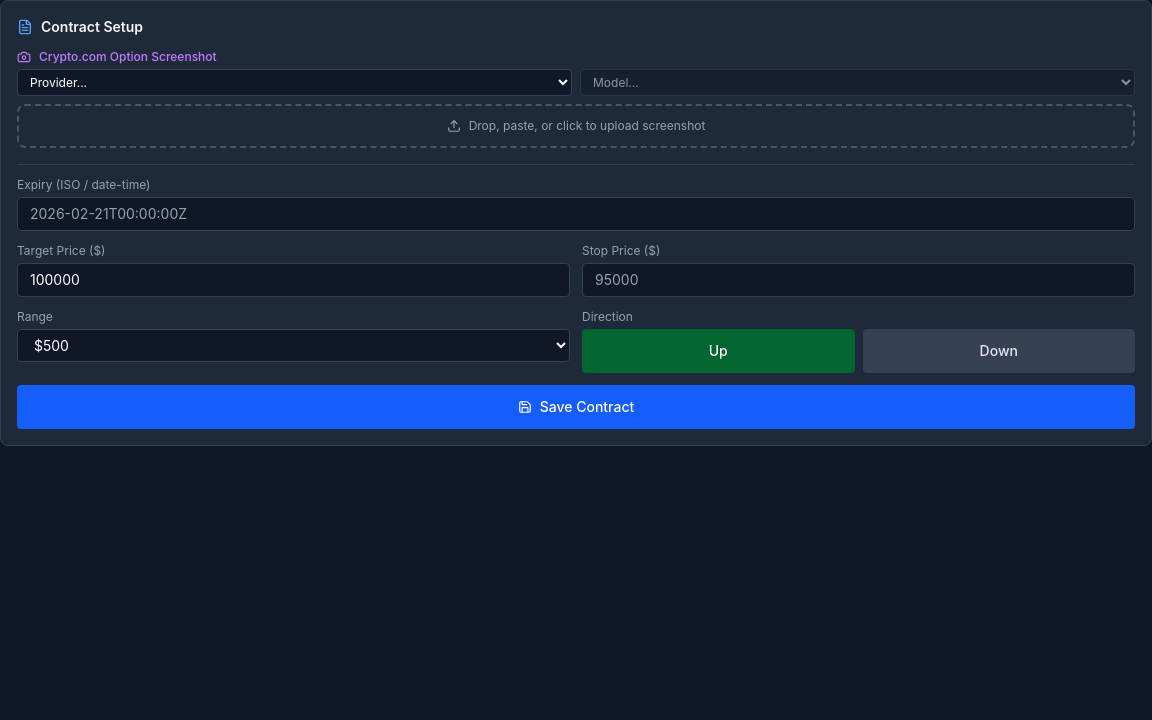
Scenario: ContractSetup draft revision and server readback transitions › serializes Save and screenshot Apply through a synchronous write guard, and preserves retry payload on failure
Start Save
Type "110000" into the number field labelled "Target Price ($)" at (294, 280), box [17, 263, 570, 297]
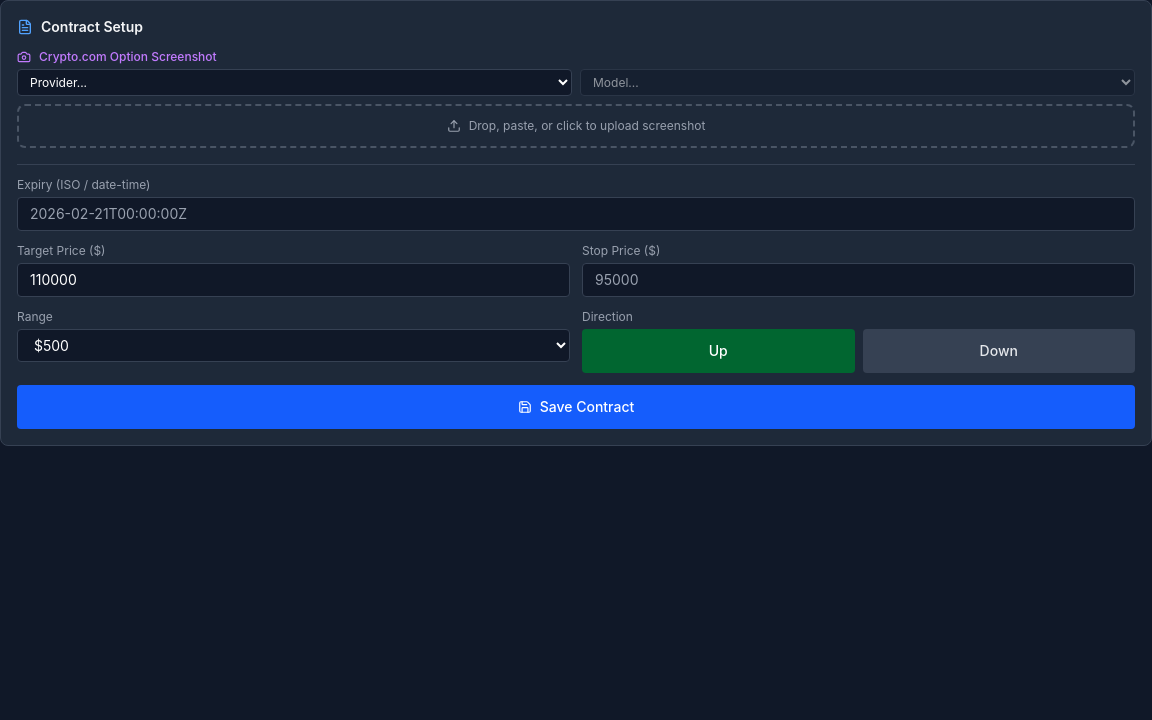
Click the button "Save Contract" at (576, 407), box [17, 385, 1135, 429]
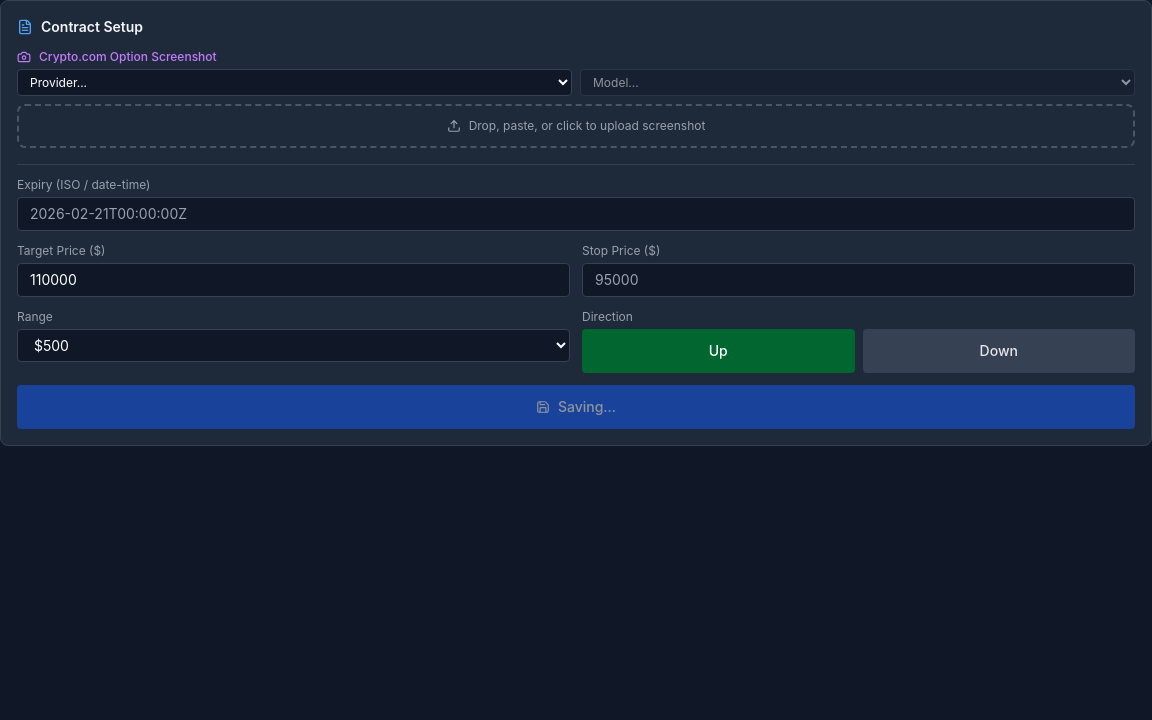
Expected: the button "Saving..." is shown
Click the button "Saving..." at (576, 407), box [17, 385, 1135, 429]
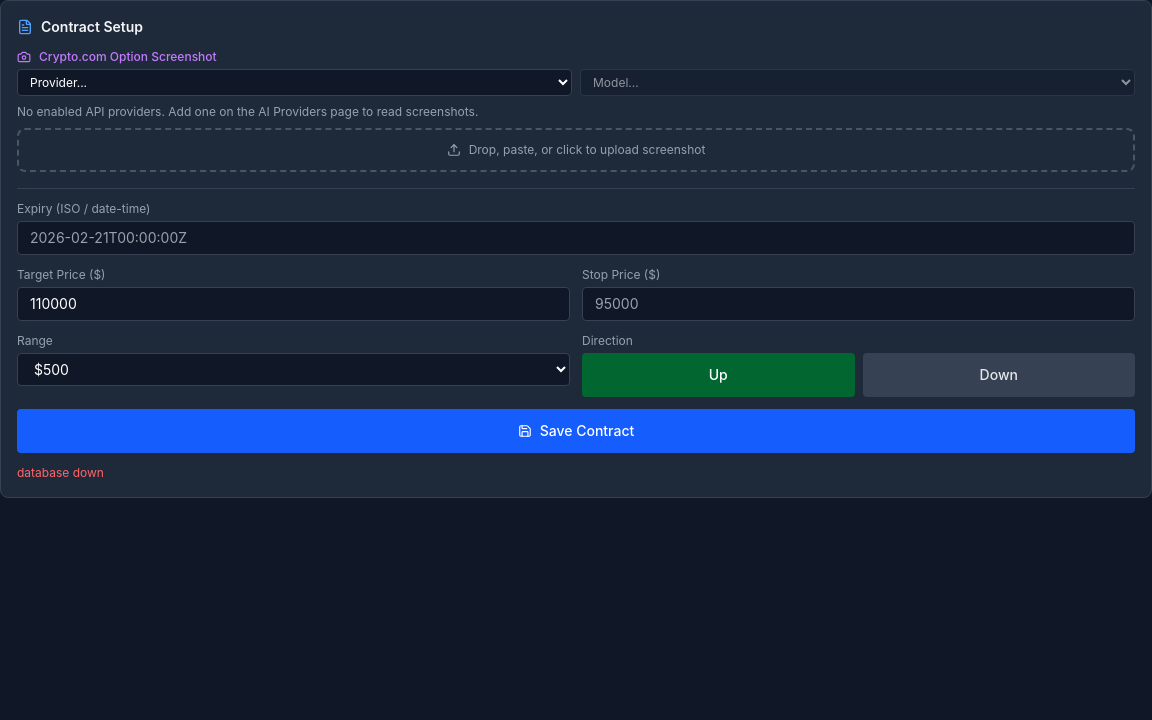
Expected: the message reads "database down", [17, 465, 104, 480]
Expected: the button "Save Contract" is enabled, [17, 409, 1135, 453]
